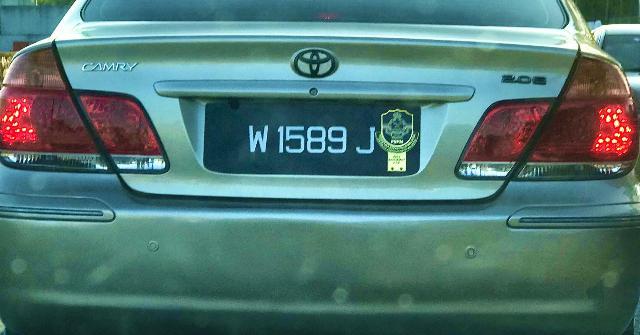License_Plate: (228, 112, 386, 168)
car: (1, 1, 640, 335)
